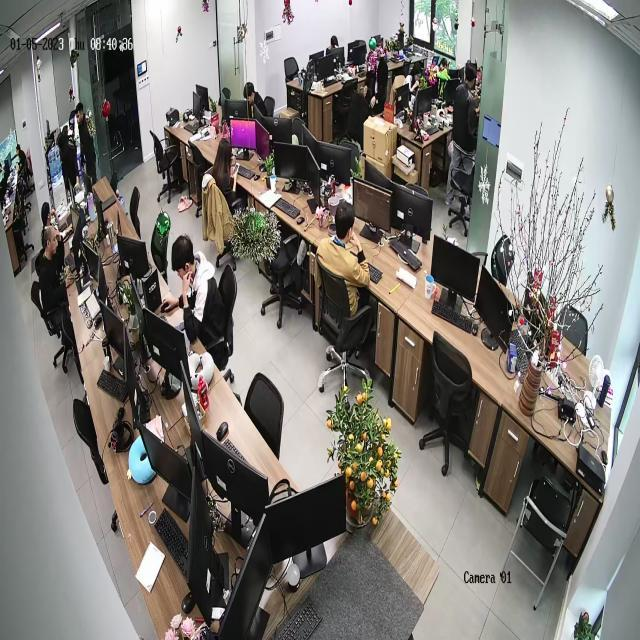person: (316, 200, 374, 323), (35, 225, 83, 373), (160, 233, 217, 342), (201, 138, 249, 265), (447, 59, 480, 220), (74, 102, 97, 192), (244, 81, 274, 128), (39, 199, 69, 246)
